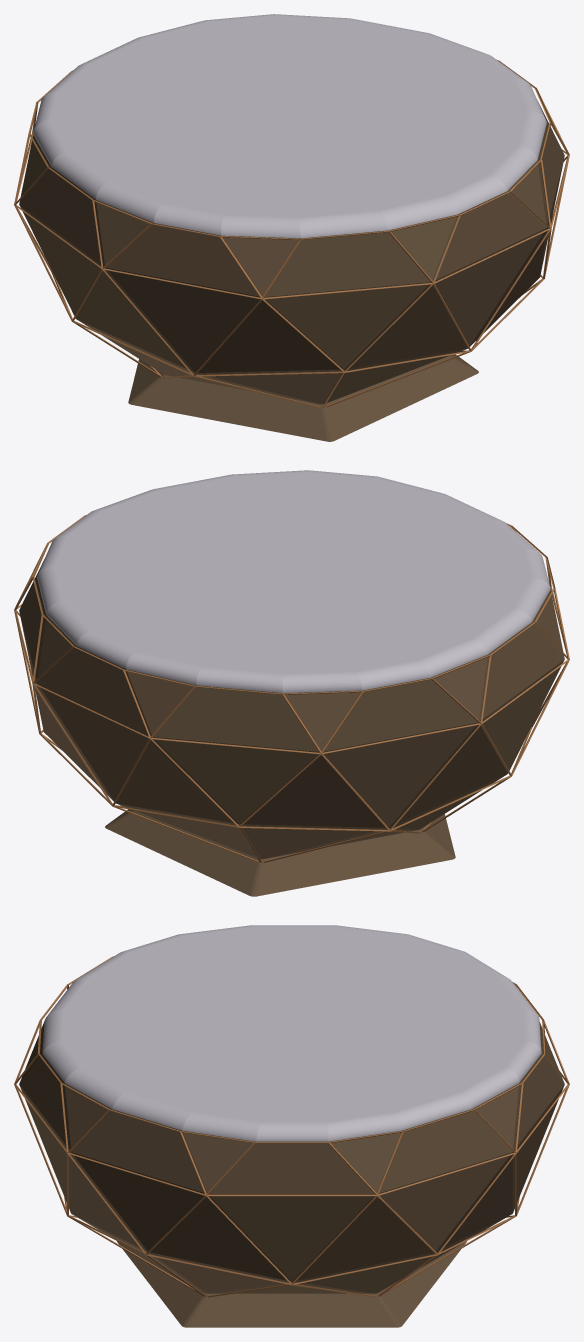
Rendered from table1.fbx.
The picture shows the model from 3 angles, top to bottom: view 1: azimuth 30°, elevation 25°; view 2: azimuth 150°, elevation 25°; view 3: azimuth 270°, elevation 25°; orthographic projection. The views are drawn at different scales.
Parts seen in each view (by area): view 1: table; view 2: table; view 3: table.
Part boxes in pixels (x1=…): table: x1=14, y1=14, x2=569, y2=441; table: x1=14, y1=470, x2=569, y2=896; table: x1=14, y1=925, x2=569, y2=1327.
Size of the model in its own units: 114 by 57.09 by 120.
